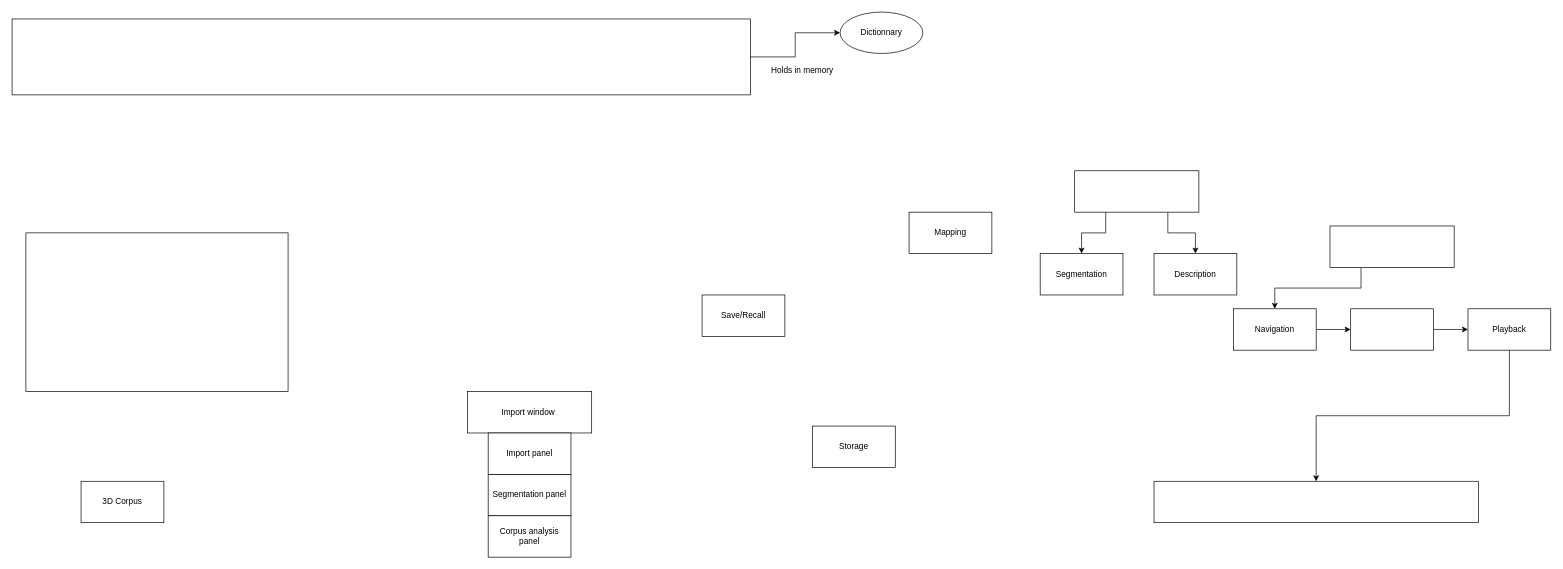
Some shapes in this 1563 by 569 pixel diagram are drawn without their labels. The box of each missing label's shape, as (x1, y1, x2, y2) in pixels:
Analysis Engine: (1074, 170, 1199, 212)
Audio Engine: (1153, 481, 1478, 523)
GUI: (25, 232, 288, 392)
Main: (11, 18, 750, 95)
Performance Engine: (1329, 225, 1454, 267)
Querying: (1350, 308, 1433, 350)
